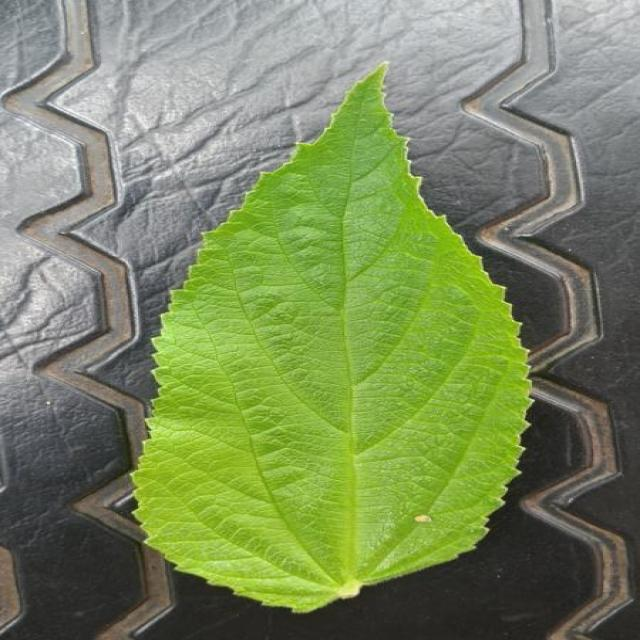gasagase: (133, 69, 528, 612)
